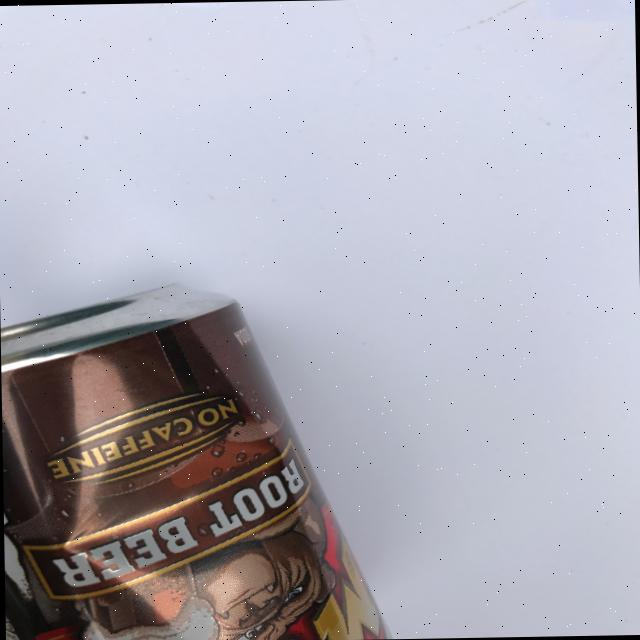metal: (0, 277, 390, 640)
